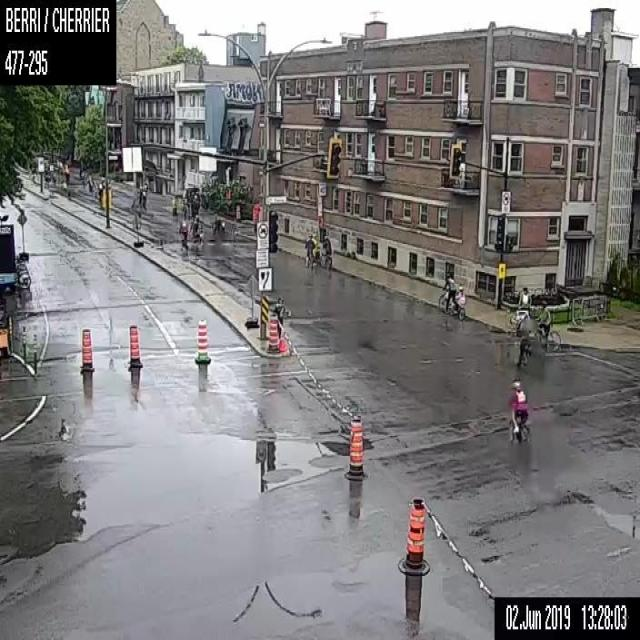construction: (396, 498, 430, 574), (0, 224, 15, 356), (345, 413, 367, 480), (193, 317, 211, 363), (243, 273, 258, 328), (125, 324, 143, 367), (79, 327, 94, 372), (16, 212, 28, 259), (266, 310, 279, 352), (131, 209, 143, 247), (33, 332, 37, 373), (8, 315, 12, 355), (22, 325, 25, 360)
cyclist: (507, 378, 530, 446), (534, 300, 560, 353), (438, 276, 464, 320), (515, 318, 535, 369), (510, 284, 533, 324), (304, 233, 316, 267), (178, 210, 188, 250), (189, 214, 202, 244), (320, 236, 332, 268), (210, 212, 223, 233), (171, 193, 178, 216)
pedestrian: (274, 296, 287, 337)
